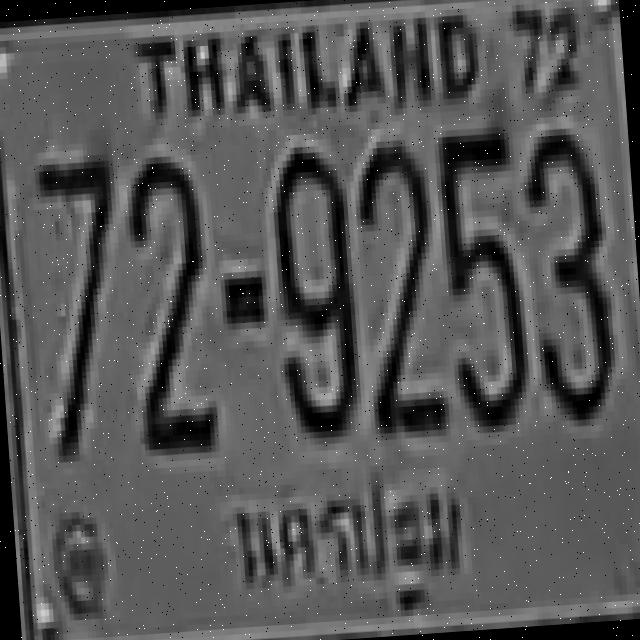2: (351, 138, 448, 439), (120, 151, 216, 453)
3: (519, 120, 619, 423)
5: (432, 119, 532, 435)
7: (33, 147, 128, 456)
9: (264, 138, 363, 440)
NakhonPathom: (214, 462, 472, 632)
